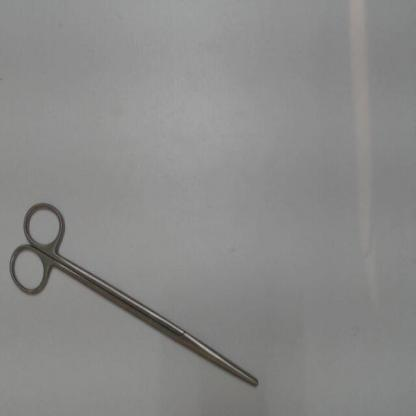9 Metzenbaum Scissors: (3, 194, 268, 394)
